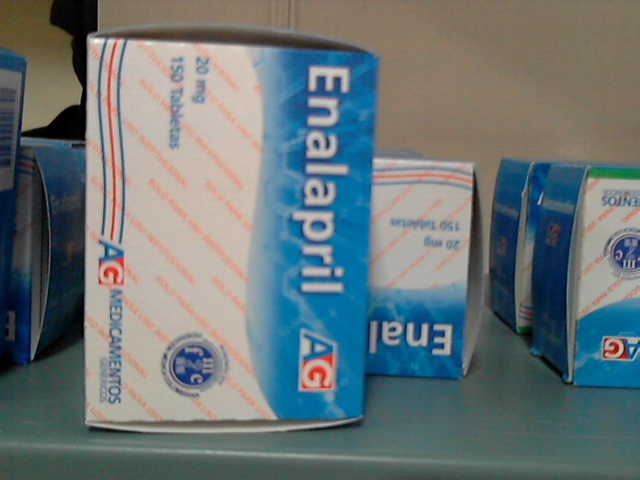AG: (87, 42, 367, 416)
